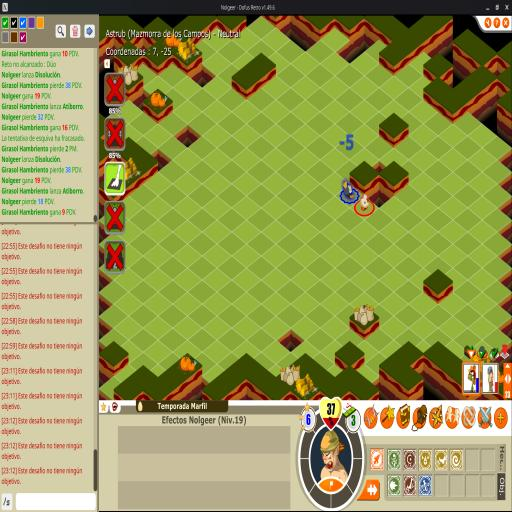Enemigos: (342, 177, 354, 199)
Personaje: (360, 194, 370, 211)
